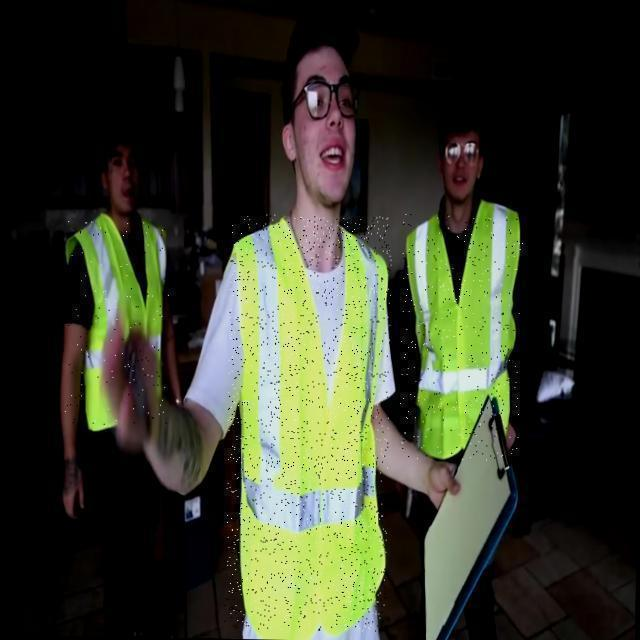no-helmet: (277, 23, 370, 141), (429, 97, 496, 175), (87, 127, 148, 195)
vest: (224, 214, 392, 631), (399, 214, 523, 461), (62, 221, 174, 433)
